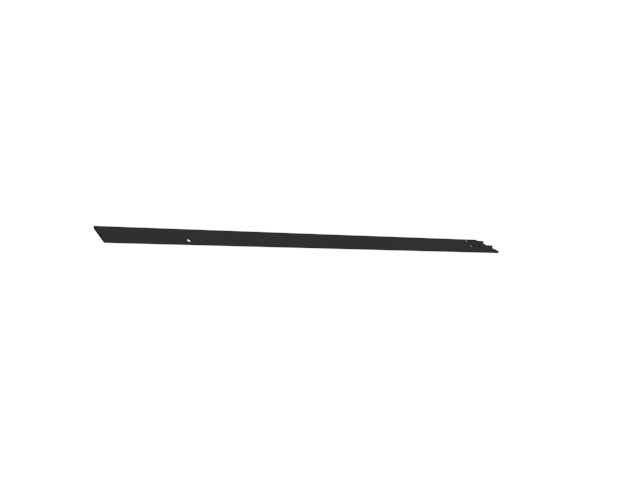ruler: (89, 225, 504, 256)
